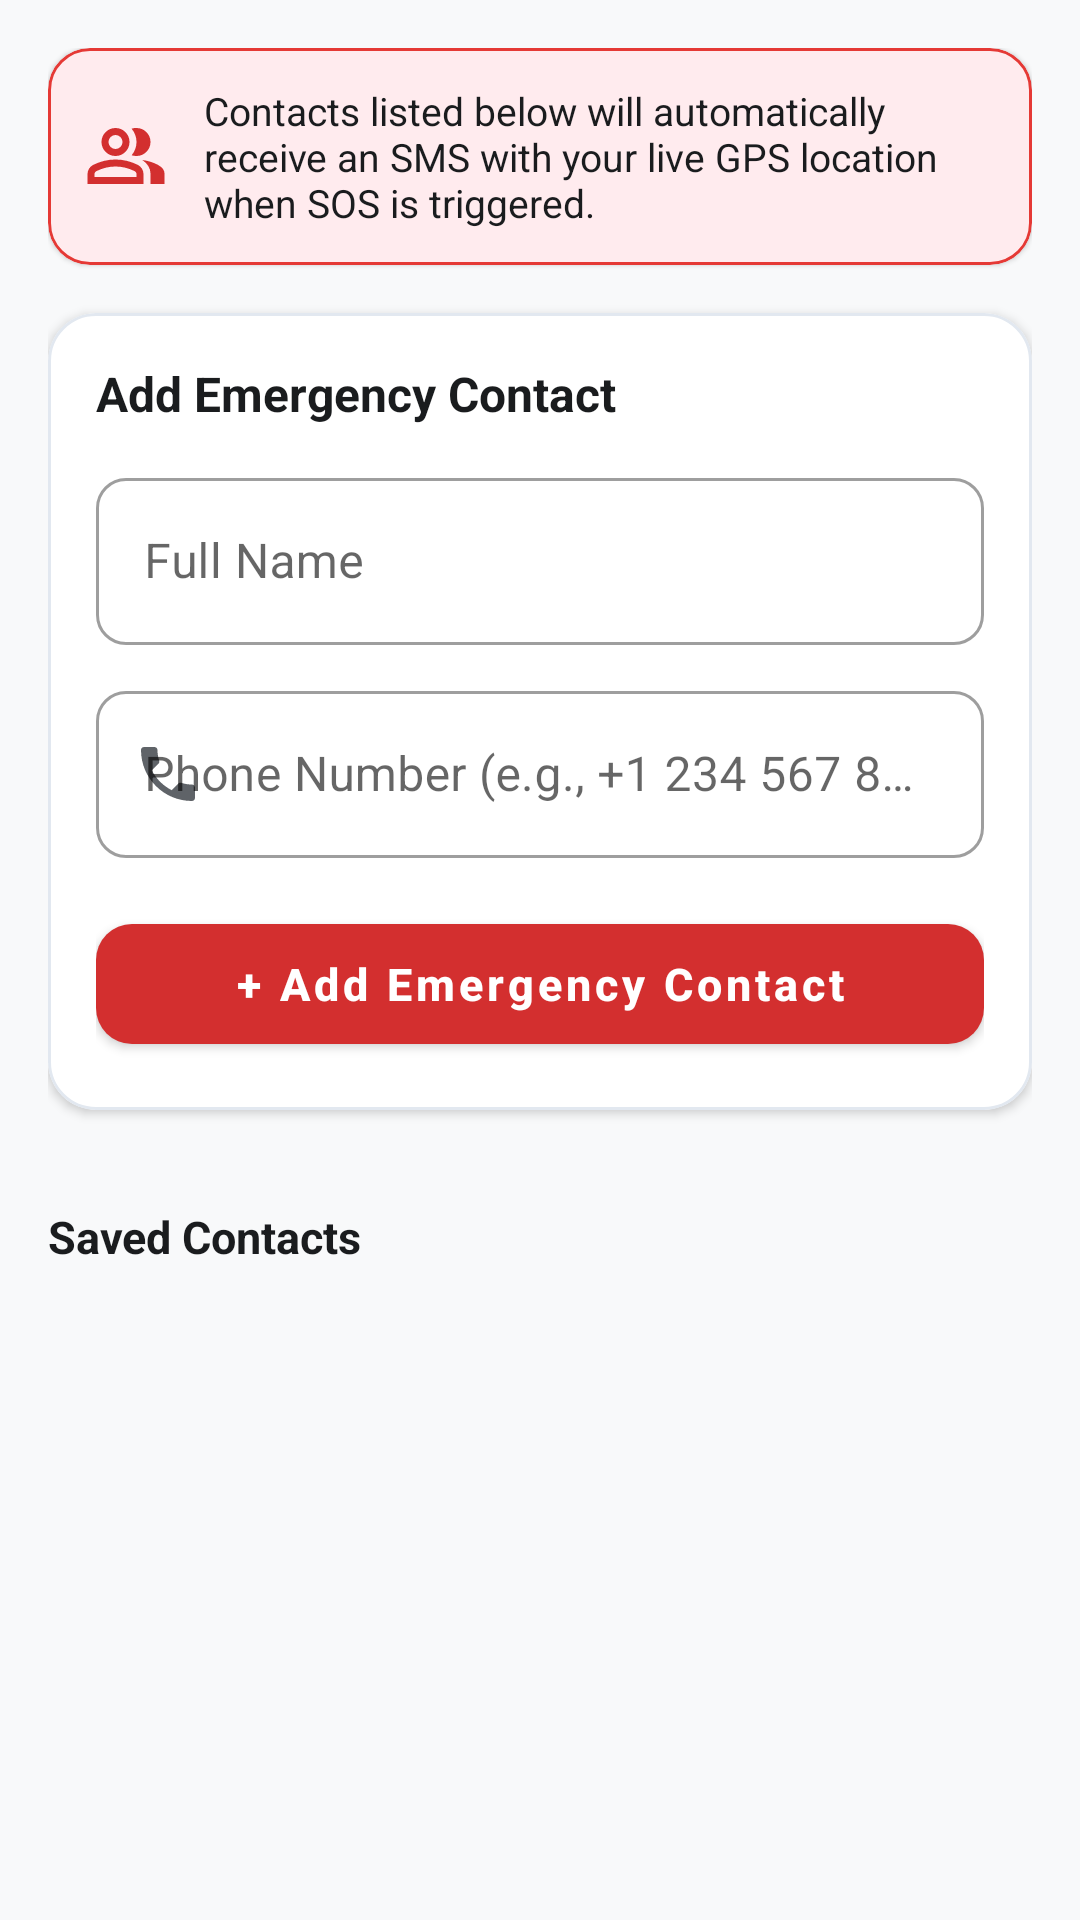

Named icons in this screenshot (1080w x 1920h) and their centers, (x,y):
Emergency Contacts: (126,156)
